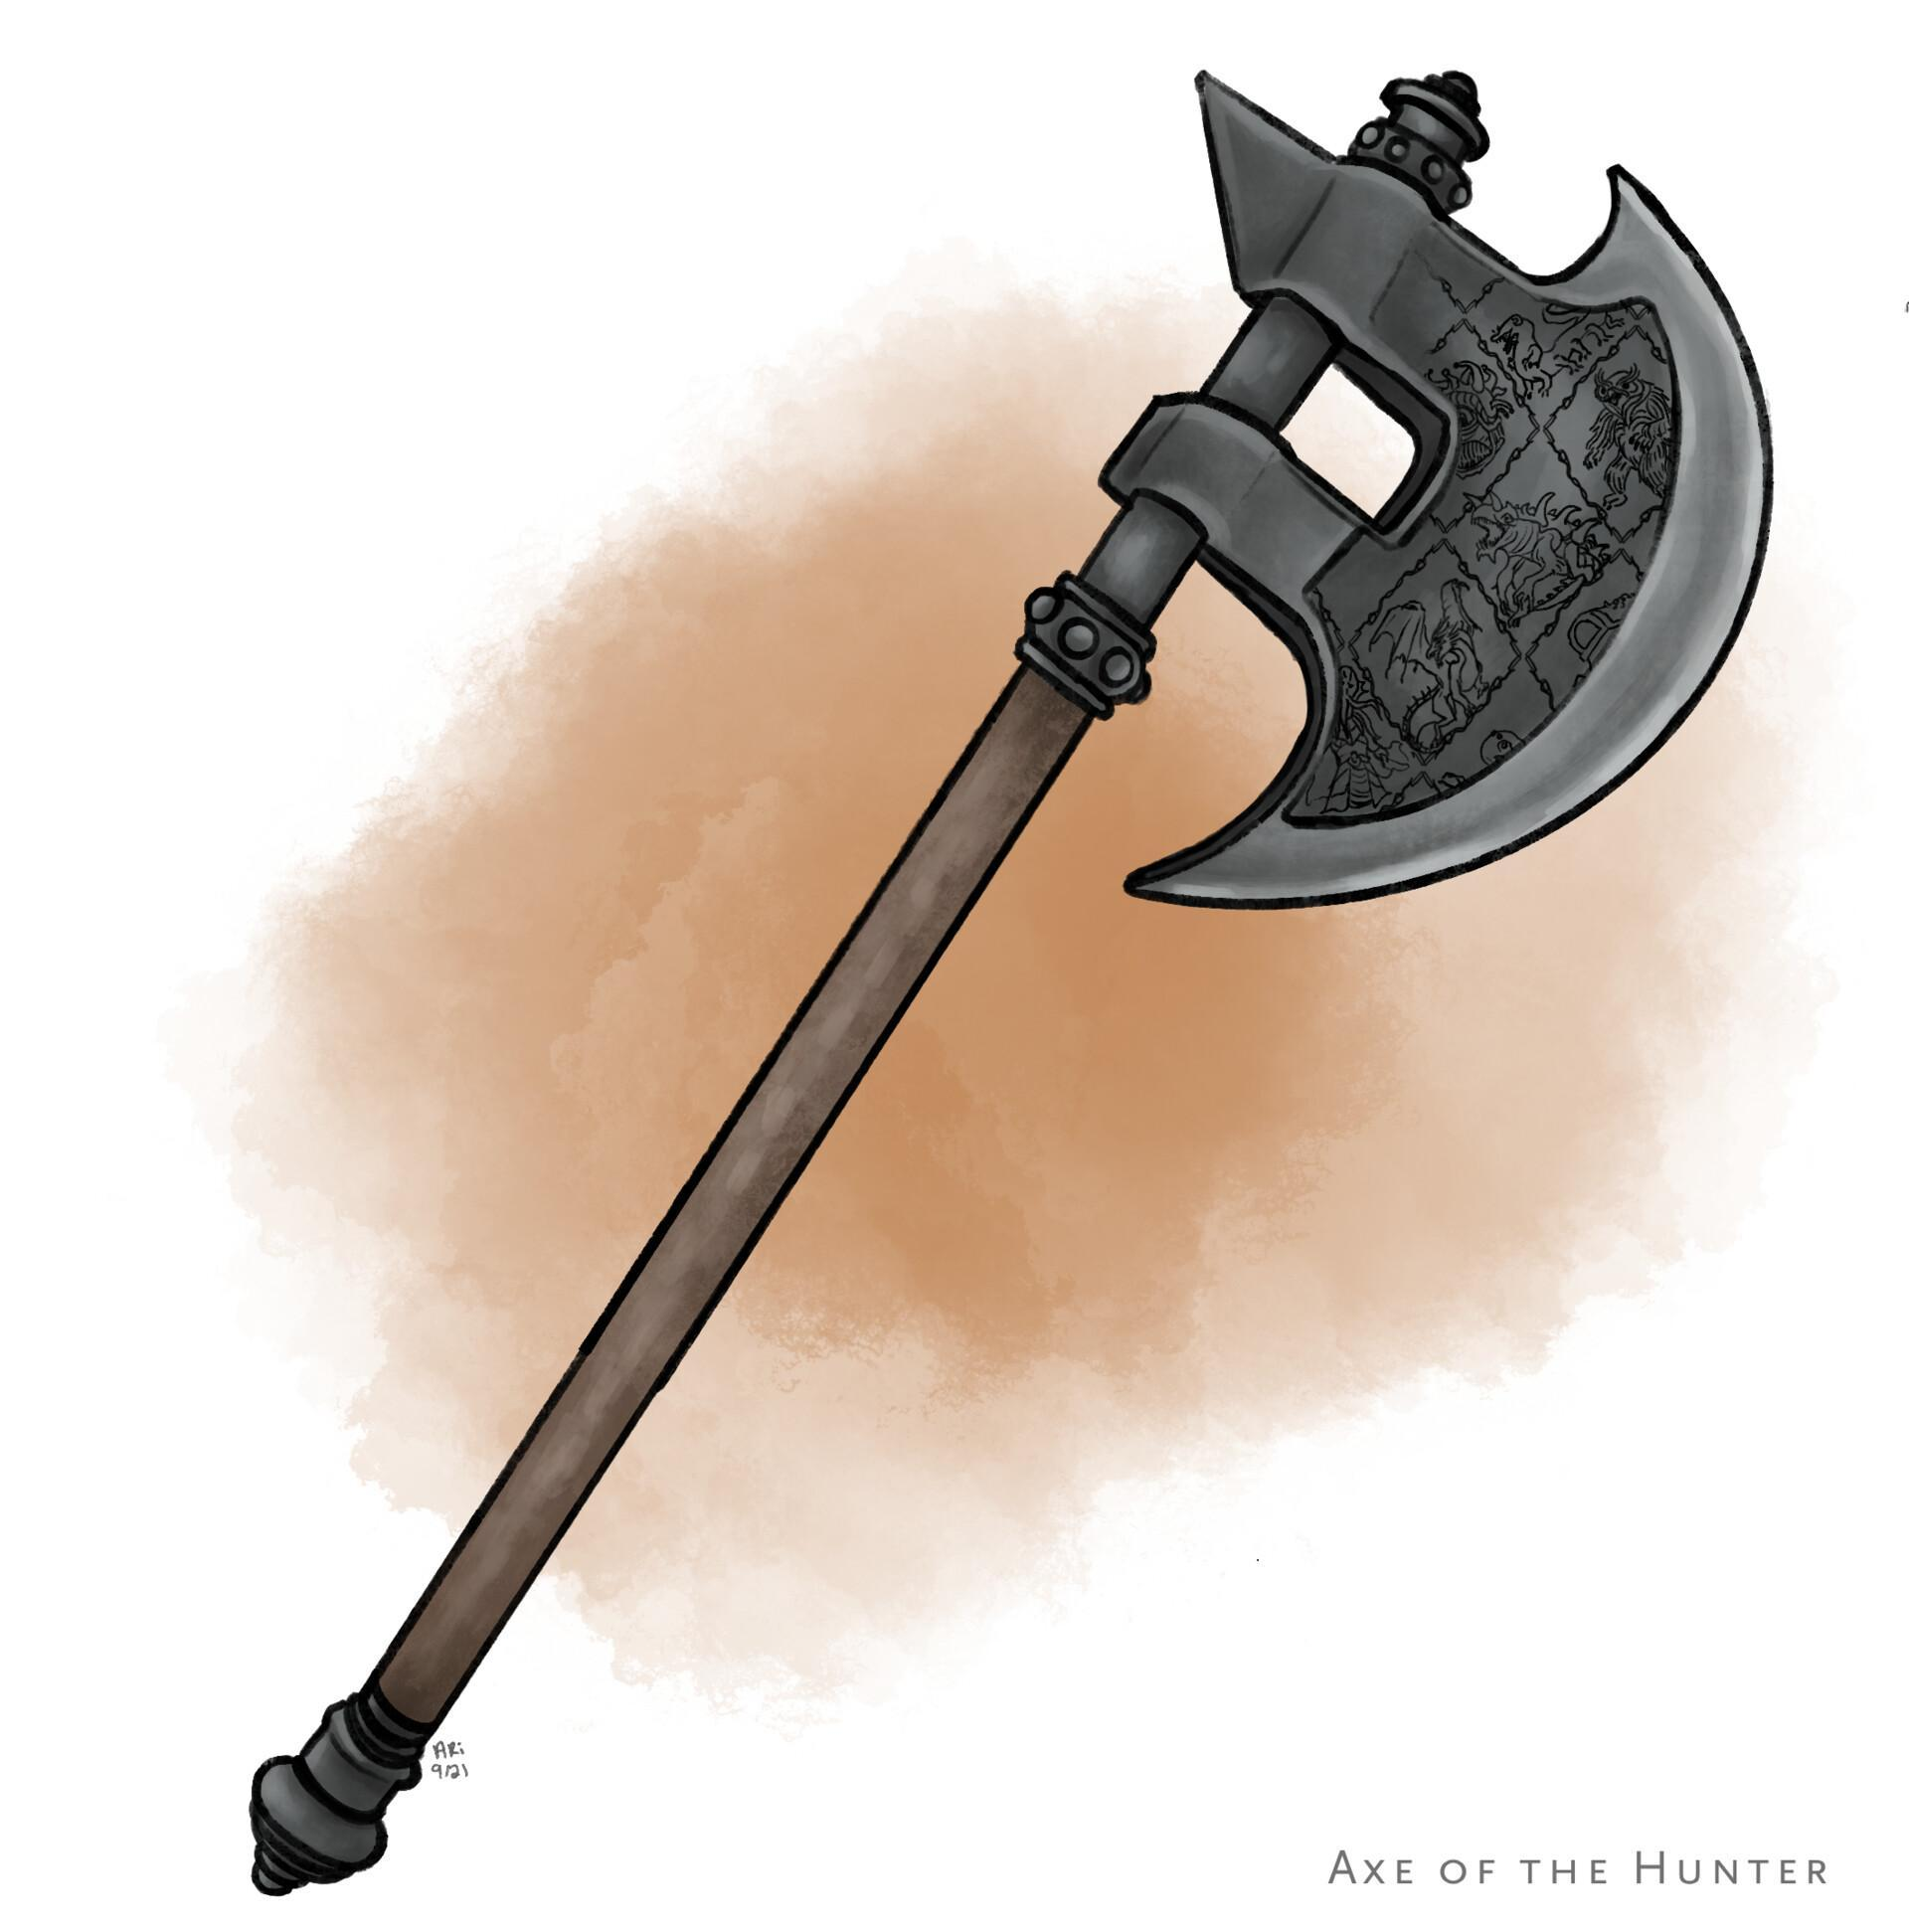machado: (248, 72, 1771, 1894)
